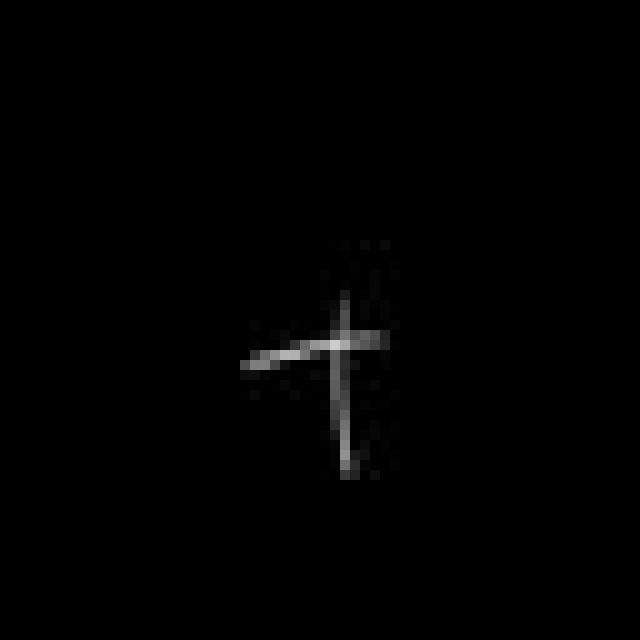10 -ten-: (227, 296, 394, 490)
